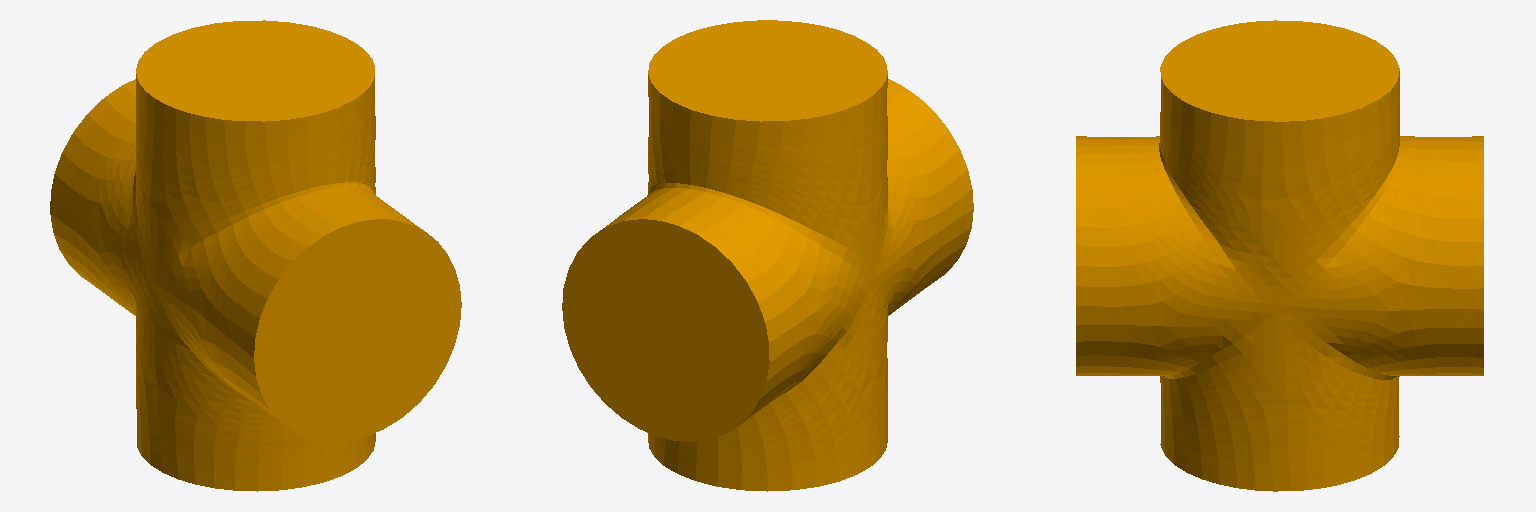
URDF robot description (object):
<robot name="object">
  <link name="object">
    <visual>
      <origin xyz="0 0 0"/>
      <geometry>
        <mesh filename="visual.obj" scale="1 1 1"/>
      </geometry>
    </visual>
    <collision>
      <origin xyz="0 0 0"/>
      <geometry>
        <mesh filename="visual.obj" scale="1 1 1"/>
      </geometry>
    </collision>
    <inertial>
      <mass value="0.05"/>
      <inertia ixx="5.723058994146442e-05" iyy="3.916509498110066e-05" izz="3.915929058071172e-05" ixy="3.743161984682977e-09" ixz="5.445755552441106e-09" iyz="6.674546770472971e-09"/>
    </inertial>
  </link>
</robot>

--- Facts derived from the render (not from the file) ---
3 views of the same robot in one strip: view 1: azimuth 30°, elevation 25°; view 2: azimuth 150°, elevation 25°; view 3: azimuth 270°, elevation 25° (orthographic).
Model object with 1 links and 0 joints (none), rooted at object, posed all joints at 0.
Visible links, largest first — view 1: object; view 2: object; view 3: object.
Link boxes in pixels (x1=…): object: x1=50, y1=20, x2=461, y2=491; object: x1=562, y1=20, x2=973, y2=491; object: x1=1076, y1=20, x2=1483, y2=491.
Size in the robot's own frame: 0.0564 by 0.096 by 0.096 metres.
Meshes: 1 distinct files referenced, 1 mesh visuals loaded (1 OBJ).
